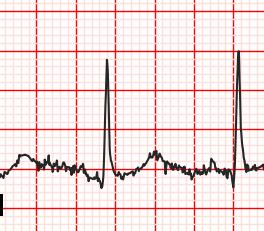Pathological Q Wave: (81, 159, 118, 191)
